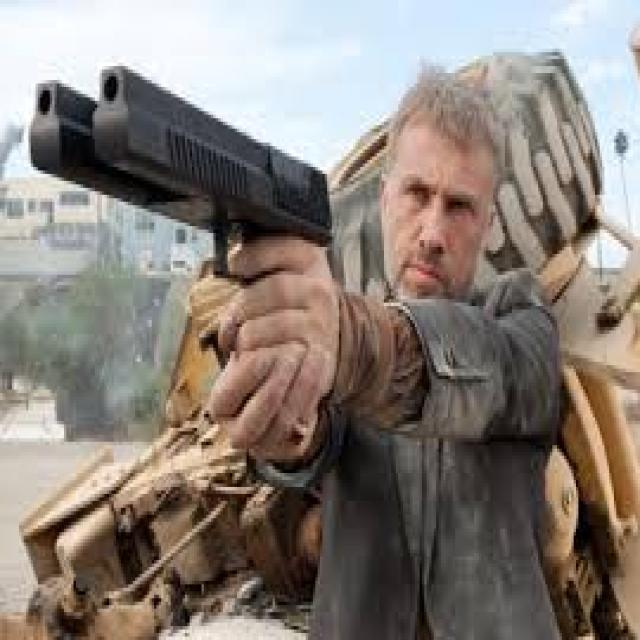gun: (92, 49, 342, 378), (15, 62, 141, 225)
